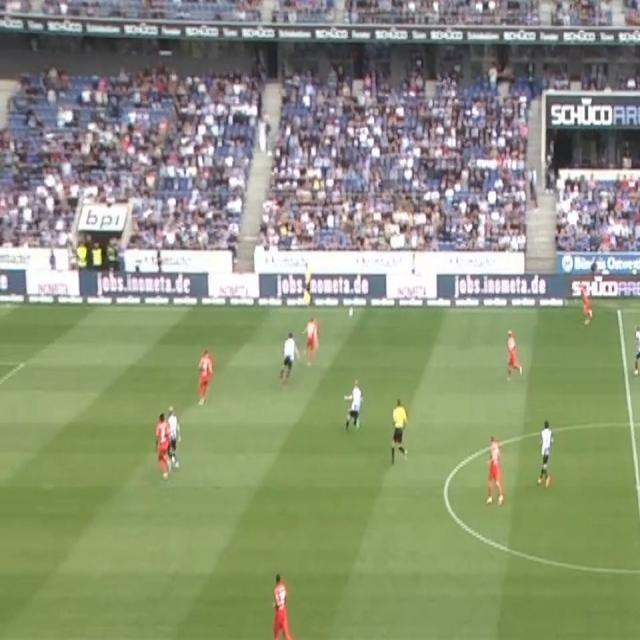ball: (347, 306, 354, 318)
